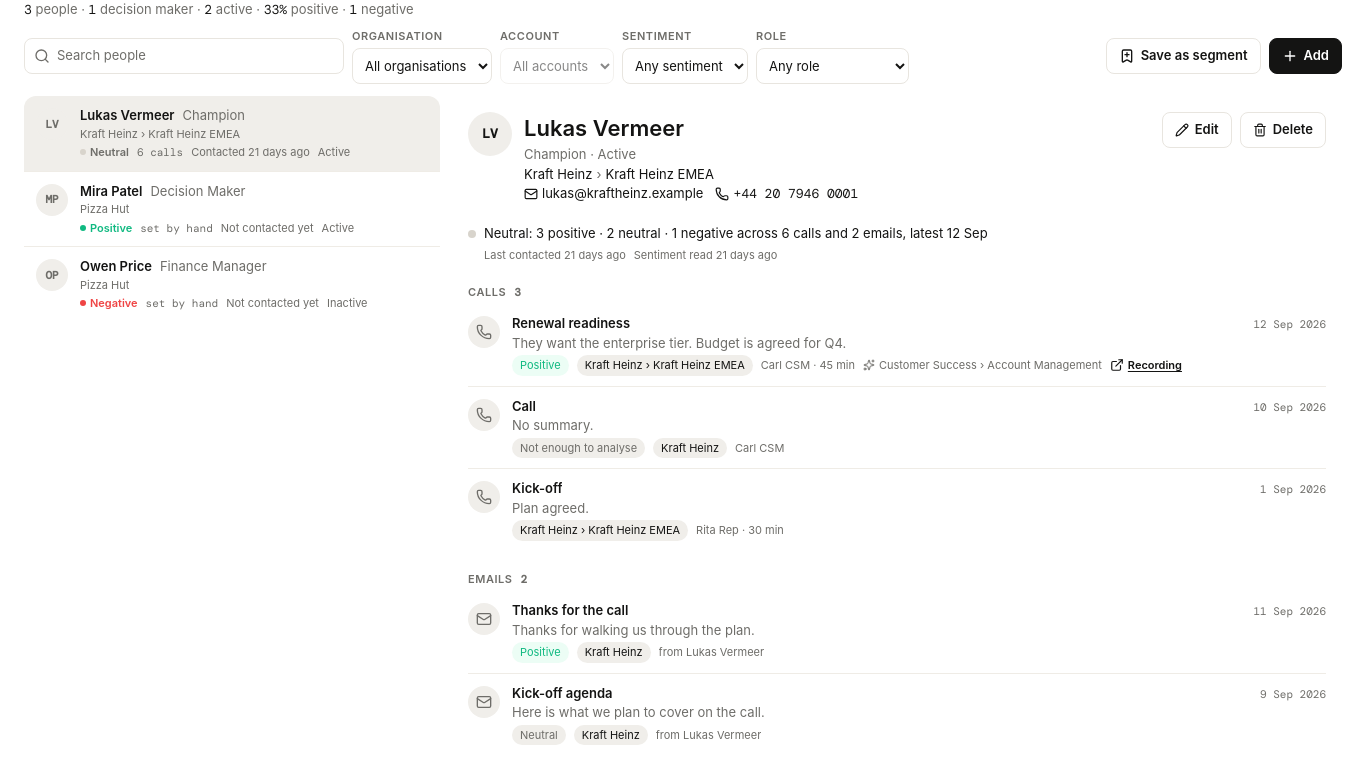
Test case: Contacts page (spec 2026-09-28 §3) › changing the sentiment re-reads the person, their history and the summary
The image size is (1366, 768).
expect the heading "Lukas Vermeer" is shown: met, box [524,115,684,141]
expect the list named "People" is shown: met, box [24,96,440,322]
Click the button "Edit". click: (1197, 130)
box: [1162,112,1232,148]
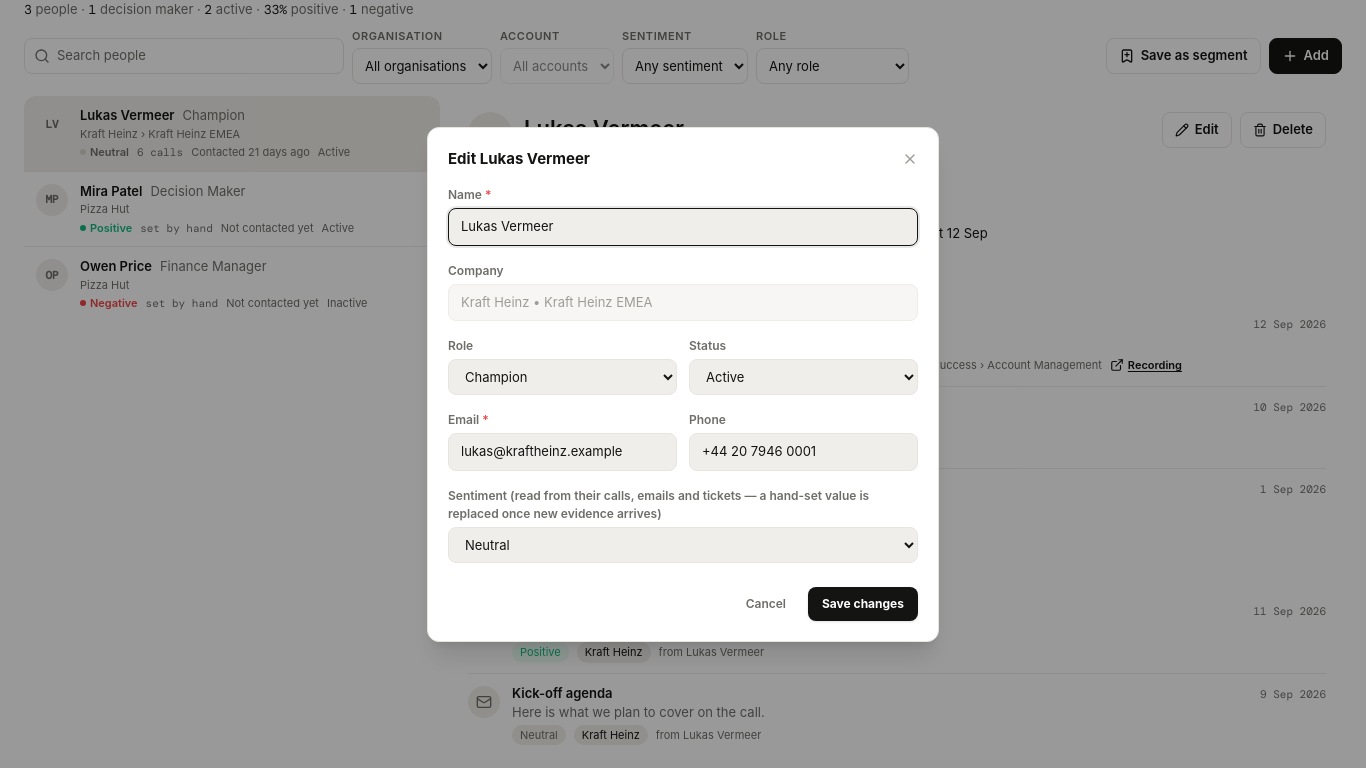
Select "Negative" in the dropdown labelled "Sentiment (". click: (683, 544)
box: [448,526,918,562]
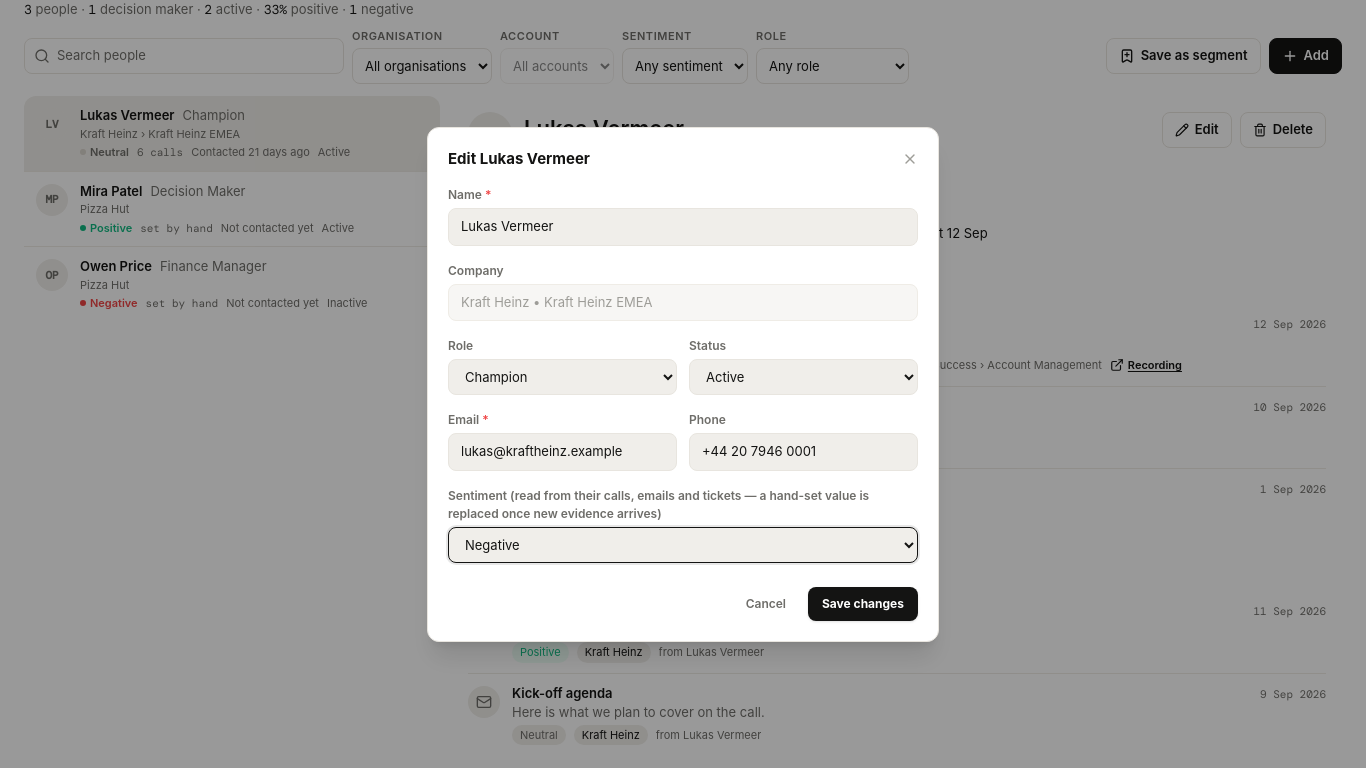
Click the button "Save changes". click: (863, 604)
box: [808,586,918,620]
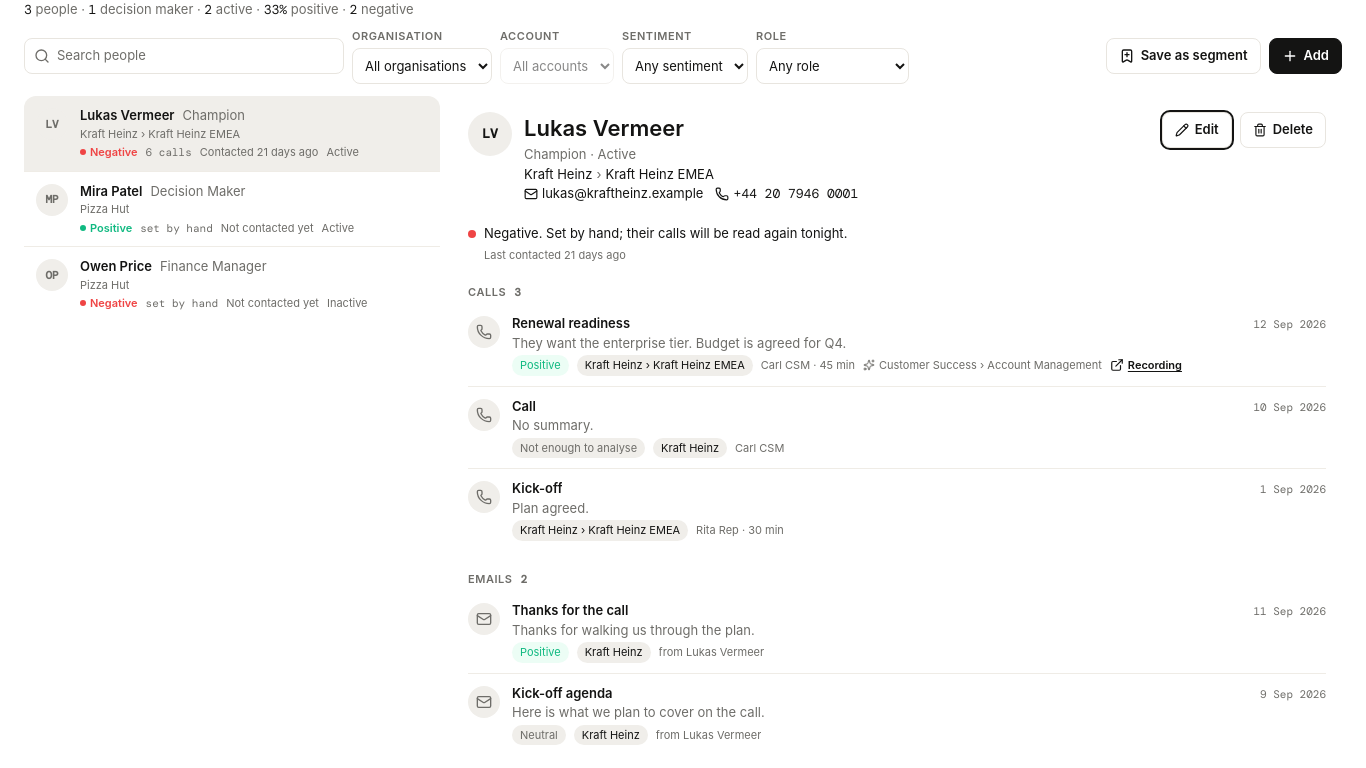
expect the element named "Sentiment" shows "Negative": met, box [484,224,847,240]
expect the element named "Sentiment" no longer shows "3 positive": met, box [468,224,847,262]
expect the element that starts with "people" shows "33% positive · 2 negative": met, box [24,1,414,18]
